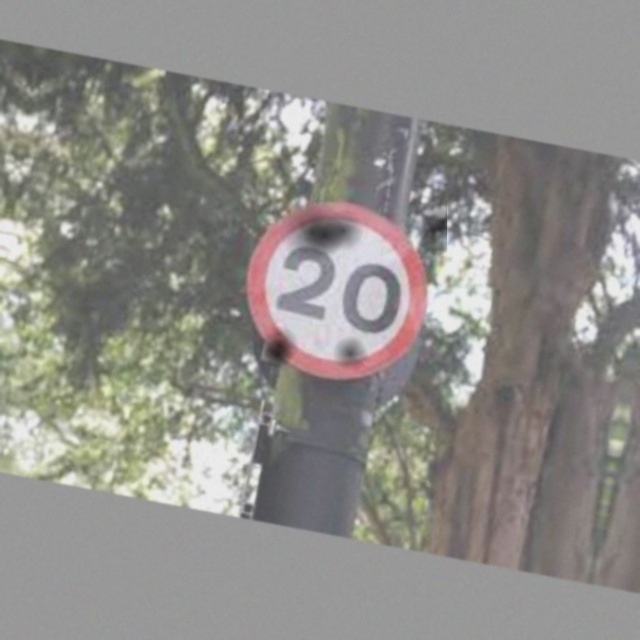Speed_Limit_20: (228, 188, 447, 394)
